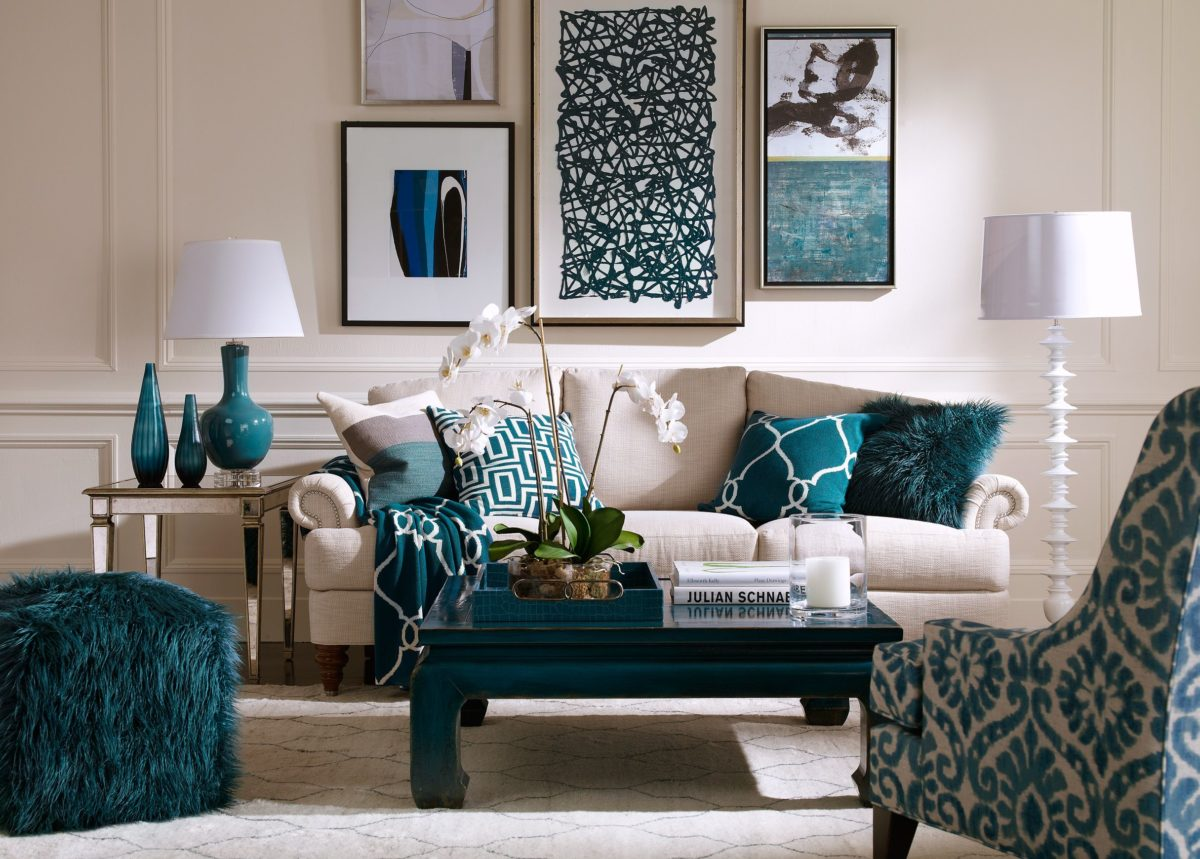hijau: (1, 583, 251, 836), (859, 400, 993, 522), (722, 405, 856, 527), (212, 344, 271, 465), (127, 363, 172, 492)
putih: (970, 205, 1146, 328), (166, 240, 305, 339), (803, 555, 853, 608)
